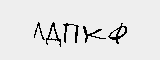Д: (44, 22, 63, 49)
К: (81, 24, 105, 48)
Л: (31, 21, 44, 44)
П: (61, 22, 81, 46)
Ф: (108, 19, 132, 48)
